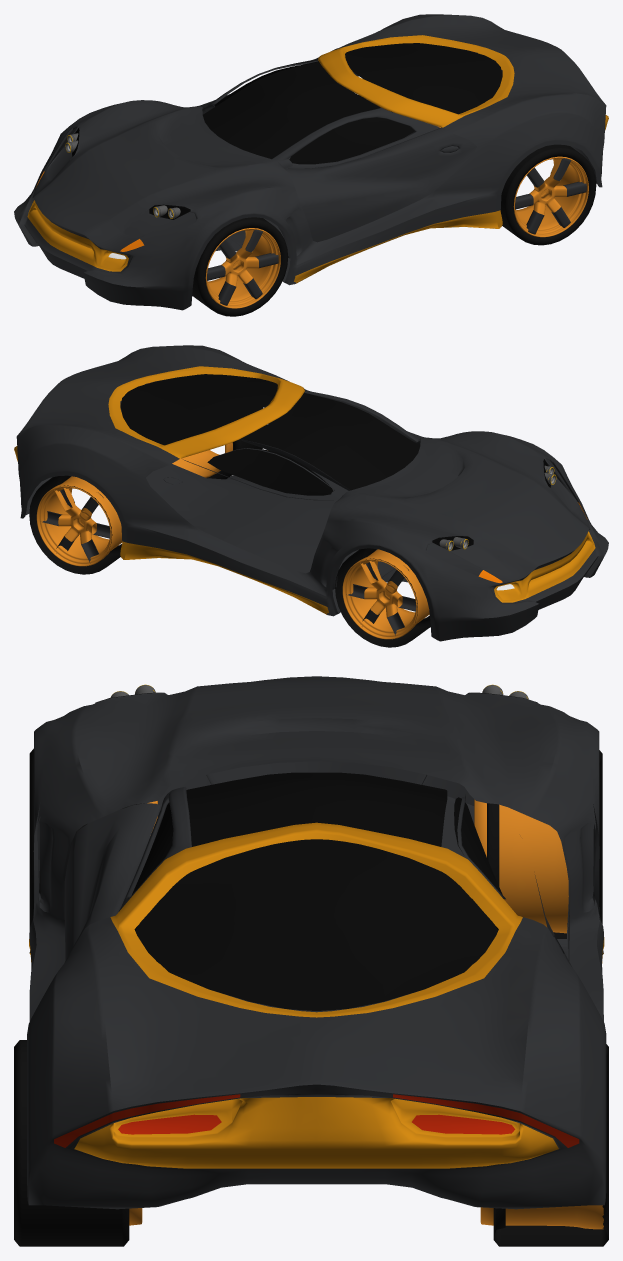
Rendered from coupeox_futuristic_vehicle.glb.
The picture shows the model from 3 angles, top to bottom: view 1: azimuth 30°, elevation 25°; view 2: azimuth 150°, elevation 25°; view 3: azimuth 270°, elevation 25°; orthographic projection. The views are drawn at different scales.
Parts seen in each view (by area): view 1: Object_2, Object_11, Object_9, Object_5, Object_19, Object_18, Object_15, Object_14; view 2: Object_2, Object_11, Object_5, Object_19, Object_17, Object_16, Object_9, Object_15, Object_14, Object_10; view 3: Object_2, Object_11, Object_5, Object_19, Object_9, Object_16, Object_7, Object_17.
Boxes of the visible parts, <box> form: Object_2: <box>14,14,606,310</box>; Object_11: <box>202,43,502,164</box>; Object_9: <box>195,48,586,305</box>; Object_5: <box>27,35,608,283</box>; Object_19: <box>192,96,596,316</box>; Object_18: <box>205,228,280,308</box>; Object_15: <box>513,156,588,237</box>; Object_14: <box>221,158,570,286</box>; Object_2: <box>16,345,608,641</box>; Object_11: <box>120,374,420,495</box>; Object_5: <box>14,366,595,614</box>; Object_19: <box>29,408,430,647</box>; Object_17: <box>36,476,122,566</box>; Object_16: <box>342,549,429,639</box>; Object_9: <box>163,380,425,635</box>; Object_15: <box>54,442,232,544</box>; Object_14: <box>360,561,402,617</box>; Object_10: <box>42,489,110,563</box>; Object_2: <box>27,676,606,1209</box>; Object_11: <box>132,772,502,1010</box>; Object_5: <box>29,822,604,1168</box>; Object_19: <box>14,748,608,1246</box>; Object_9: <box>64,786,572,967</box>; Object_16: <box>474,799,568,933</box>; Object_7: <box>54,1094,579,1147</box>; Object_17: <box>480,1205,603,1229</box>.
Bounding box in the file's own units: 8.27 × 2.23 × 4.18.
